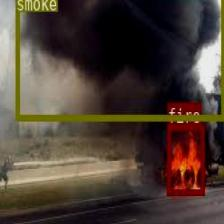fire: (167, 123, 204, 194)
smoke: (15, 0, 224, 120)
